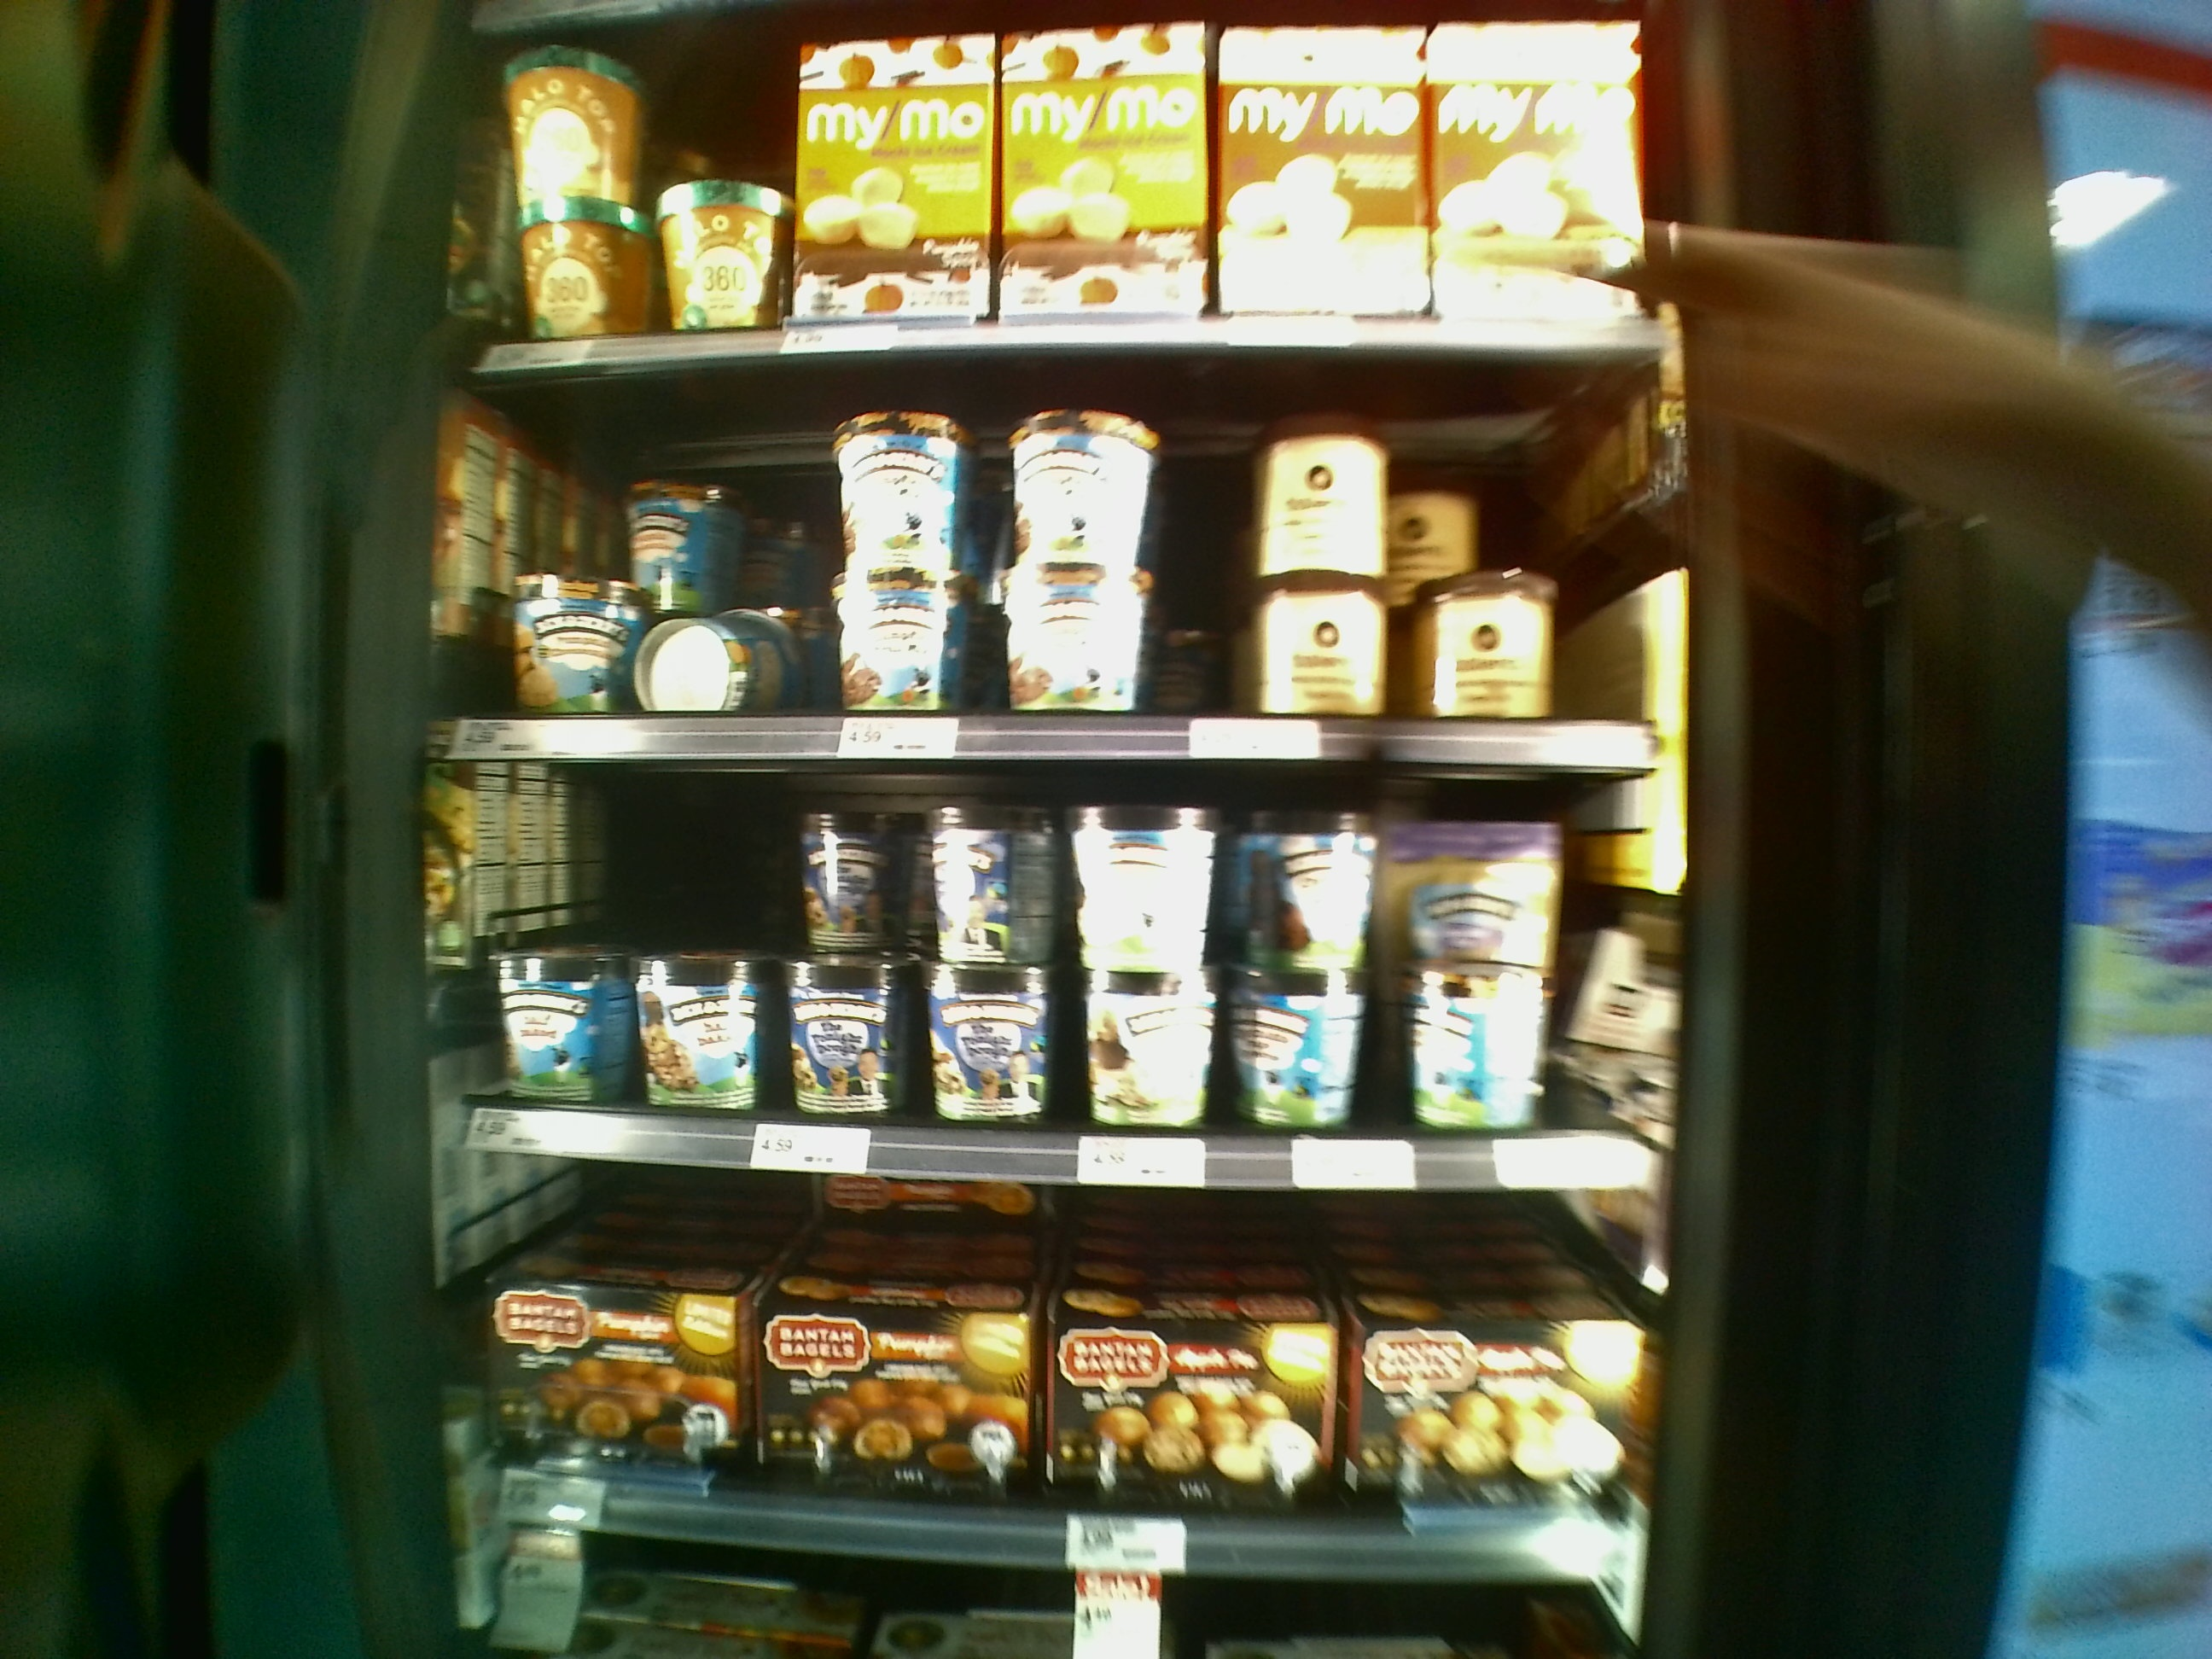shelf: (423, 741, 1662, 1201), (451, 1121, 1656, 1581), (460, 362, 1669, 769)
